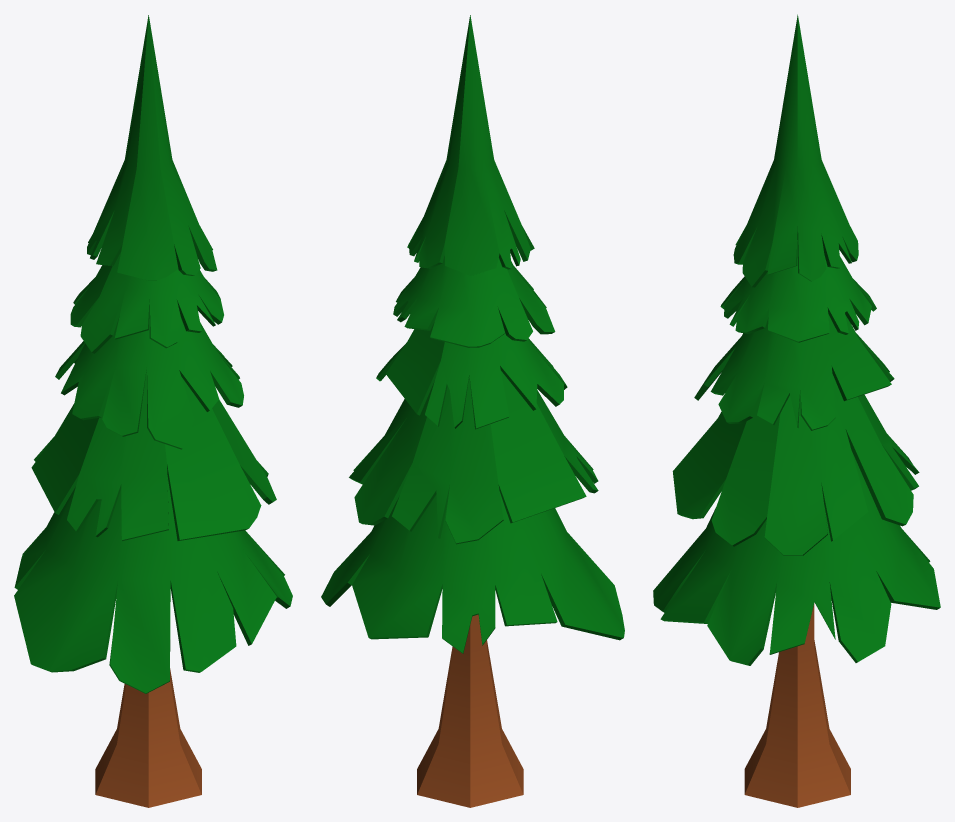
Rendered from Tree.fbx.
The picture shows the model from 3 angles, left to right: view 1: azimuth 30°, elevation 25°; view 2: azimuth 150°, elevation 25°; view 3: azimuth 270°, elevation 25°; orthographic projection.
Visible parts, largest first — view 1: Cylinder.006; view 2: Cylinder.006; view 3: Cylinder.006.
Part boxes in pixels (x1,y1,x2,y2): Cylinder.006: [14, 15, 292, 807]; Cylinder.006: [321, 15, 624, 807]; Cylinder.006: [653, 14, 940, 807].
Size of the model in its own units: 234 by 664 by 225.
